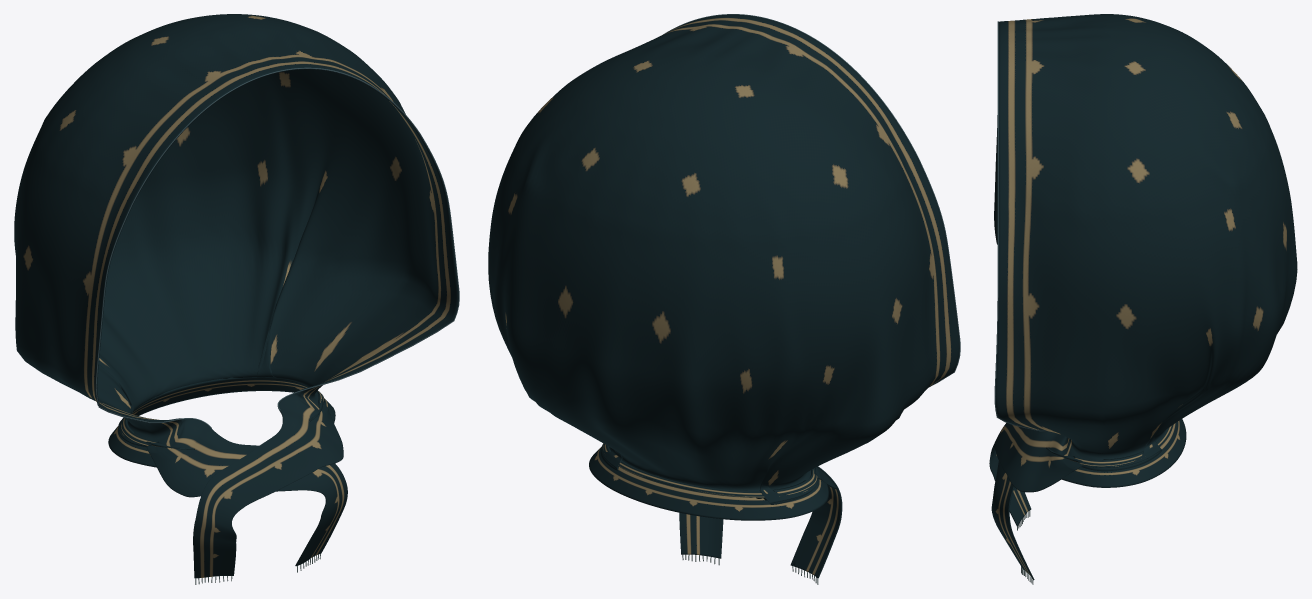
Rendered from Feminine-open-pashmina241-headgear.glb.
The picture shows the model from 3 angles, left to right: view 1: azimuth 30°, elevation 25°; view 2: azimuth 150°, elevation 25°; view 3: azimuth 270°, elevation 25°; orthographic projection. The views are drawn at different scales.
Parts seen in each view (by area): view 1: 226 headgear / Headwear / continuous woven pashmina239, 226 headgear / Headwear / face edge239; view 2: 226 headgear / Headwear / continuous woven pashmina239, 226 headgear / Headwear / face edge239; view 3: 226 headgear / Headwear / continuous woven pashmina239, 226 headgear / Headwear / face edge239.
Part boxes in pixels (<box>): 226 headgear / Headwear / continuous woven pashmina239: <box>14,14,458,578</box>; 226 headgear / Headwear / face edge239: <box>95,67,459,427</box>; 226 headgear / Headwear / continuous woven pashmina239: <box>488,14,959,578</box>; 226 headgear / Headwear / face edge239: <box>663,14,960,387</box>; 226 headgear / Headwear / continuous woven pashmina239: <box>989,14,1297,580</box>; 226 headgear / Headwear / face edge239: <box>994,21,1046,431</box>.
Size of the model in its own units: 1.02 by 1.35 by 0.7224.
3 materials, 1 textured.
